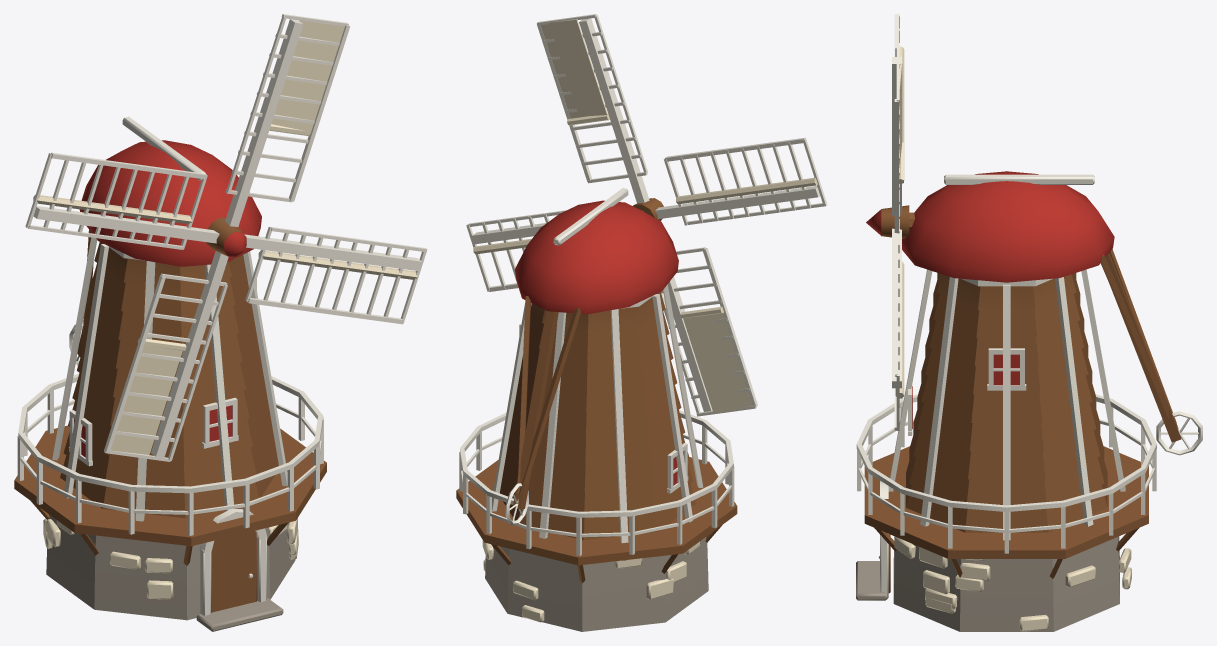
Rendered from windmill.glb.
The picture shows the model from 3 angles, left to right: view 1: azimuth 30°, elevation 25°; view 2: azimuth 150°, elevation 25°; view 3: azimuth 270°, elevation 25°; orthographic projection. The views are drawn at different scales.
Parts seen in each view (by area): view 1: windmill, spin_sails; view 2: windmill, spin_sails; view 3: windmill, spin_sails.
Part boxes in pixels (x1=…): windmill: x1=14, y1=116, x2=326, y2=631; spin_sails: x1=25, y1=14, x2=427, y2=461; windmill: x1=456, y1=188, x2=737, y2=631; spin_sails: x1=466, y1=14, x2=827, y2=416; windmill: x1=856, y1=171, x2=1202, y2=631; spin_sails: x1=866, y1=14, x2=909, y2=430.
Size of the model in its own units: 7.19 by 9.95 by 5.52.
